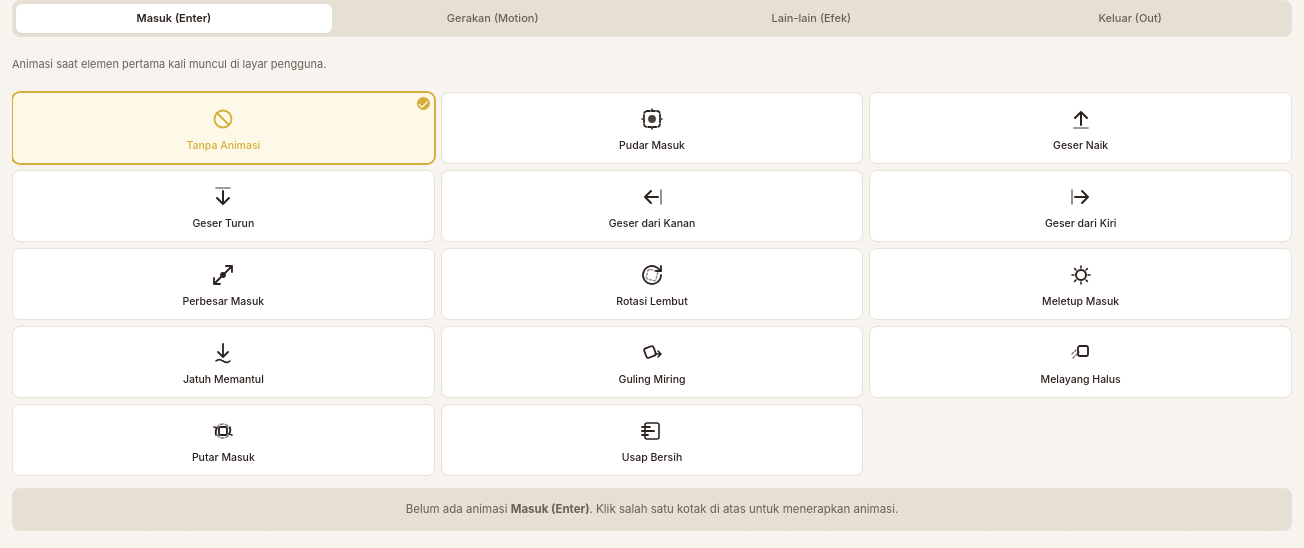
Scenario: AnimationPanel Motion Feature › renders Gerakan (Motion) tab and switches view on click
Click the tab with test id "anim-tab-motion": (493, 18) [335,4,651,32]
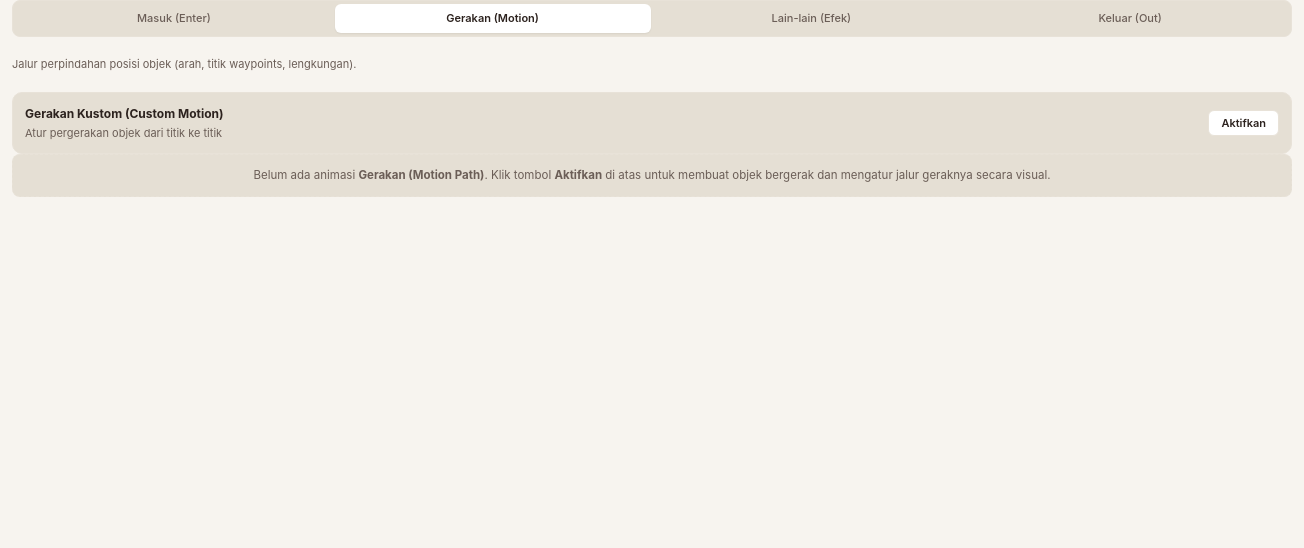
Expected: the element with test id "motion-tab-content" is shown, [12,92,1292,197]
Expected: the button with test id "toggle-custom-motion-btn" is shown, [1208,110,1279,136]
